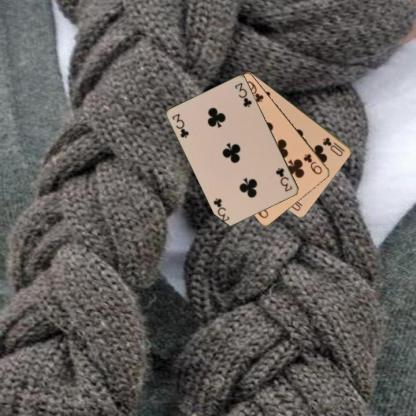10c: (320, 134, 346, 158)
3c: (170, 111, 191, 139), (274, 165, 294, 193)
9c: (301, 150, 324, 176)
